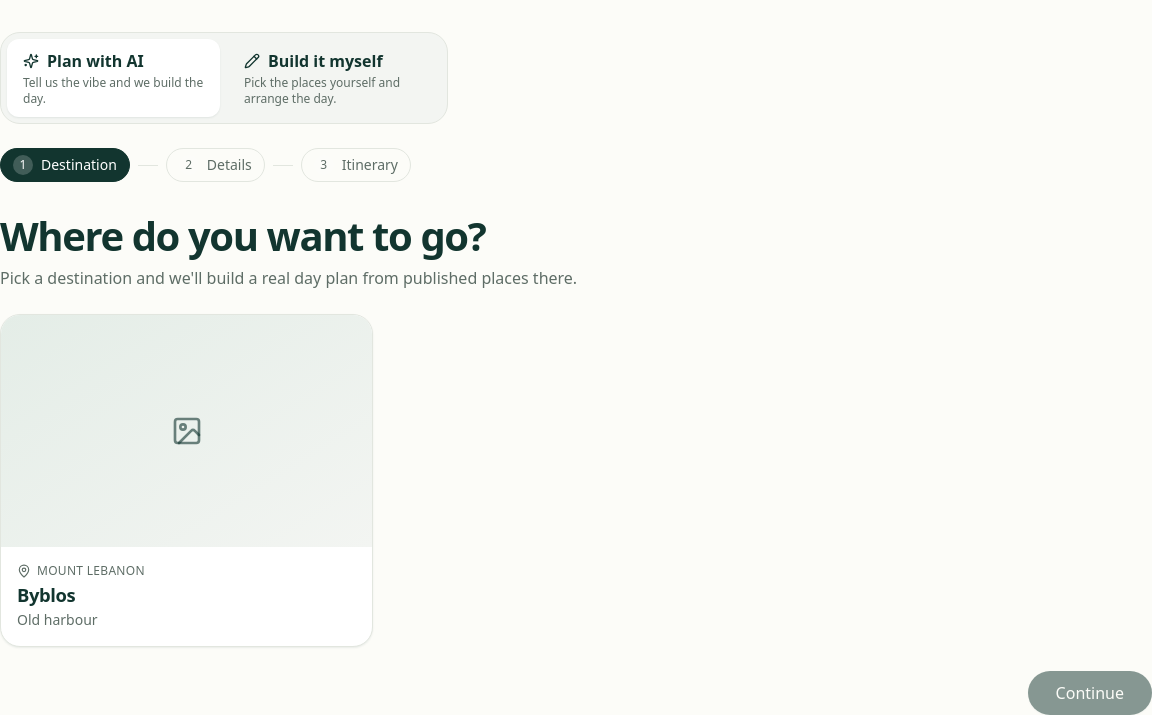
Test: plan flow changes to an AI plan › reads a change request first, then applies what it understood
This screenshot has width=1152, height=715.
(page scrolled)
Click the button "Mount Lebanon Byblos Old harbour" at (187, 480), box [0, 314, 373, 647]
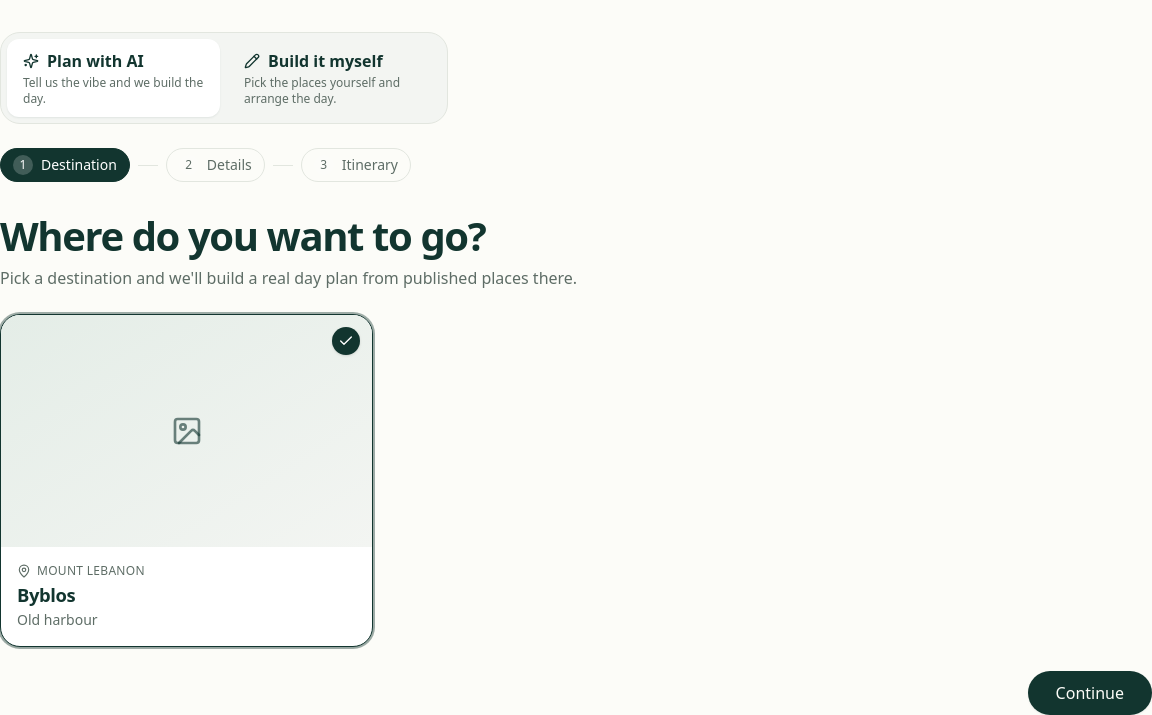
Click the button "Continue" at (1090, 693), box [1028, 671, 1151, 714]
(page scrolled)
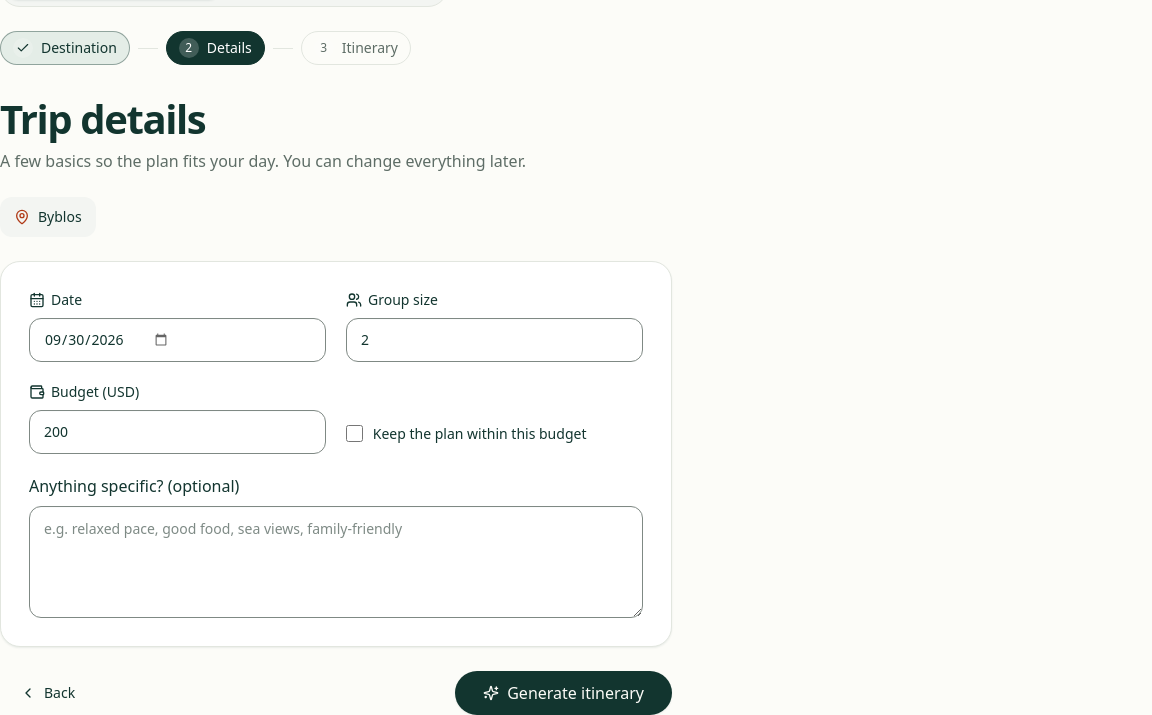
Click the button "Generate itinerary" at (564, 693), box [455, 671, 672, 714]
(page scrolled)
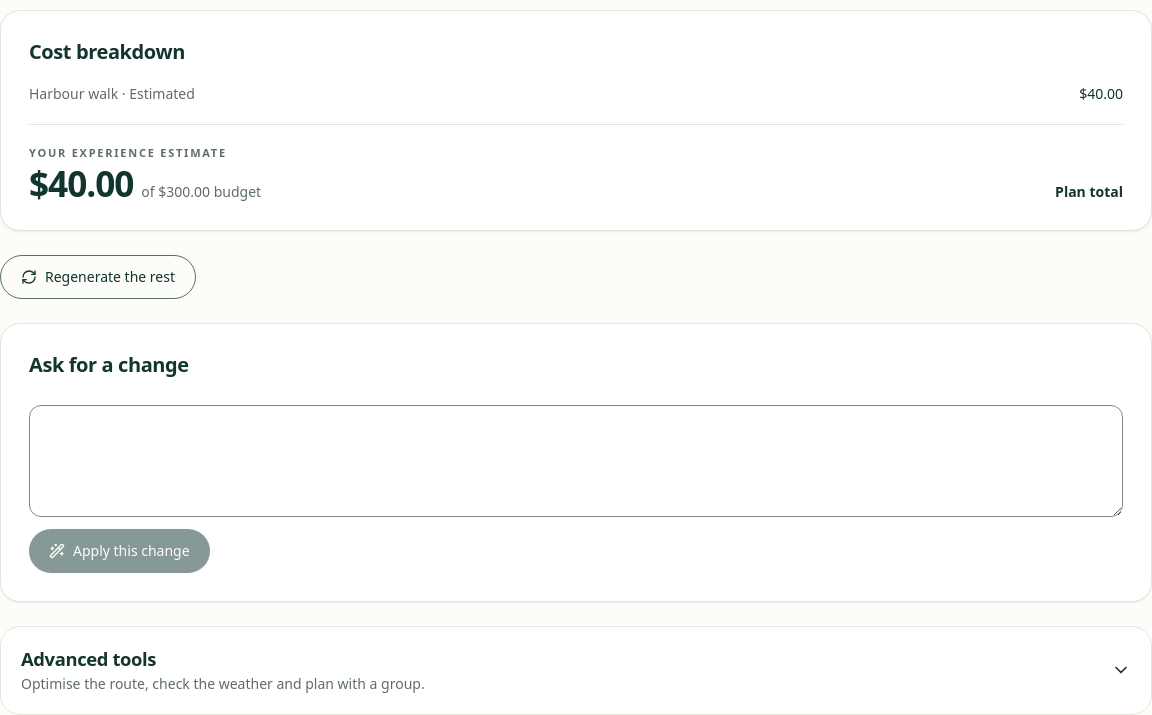
Type "start at 10" into the text box named "Ask for a change" at (576, 461), box [29, 405, 1123, 517]
(page scrolled)
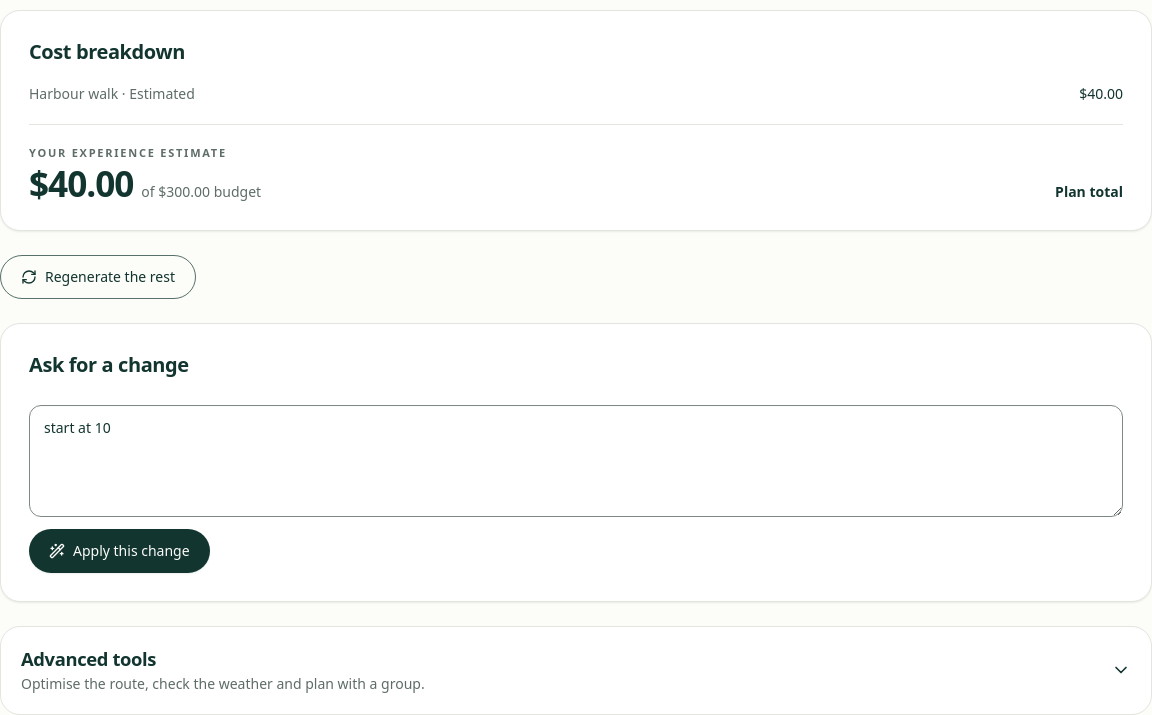
Click the button "Apply this change" at (119, 551), box [29, 529, 210, 573]
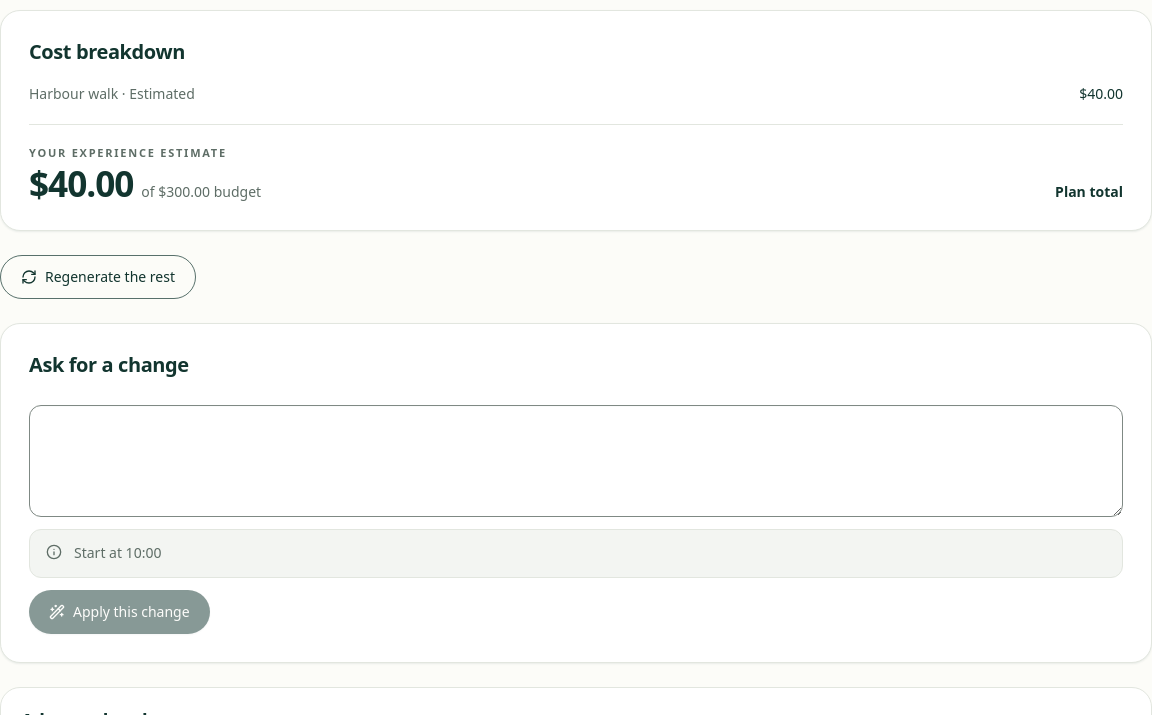
Expected: the text "Start at 10:00" is shown, [74, 543, 161, 562]
